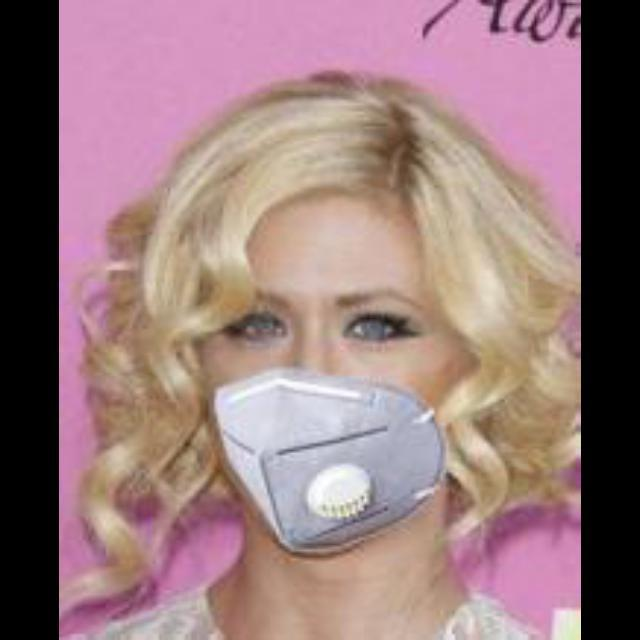suspicion: (108, 140, 494, 560)
